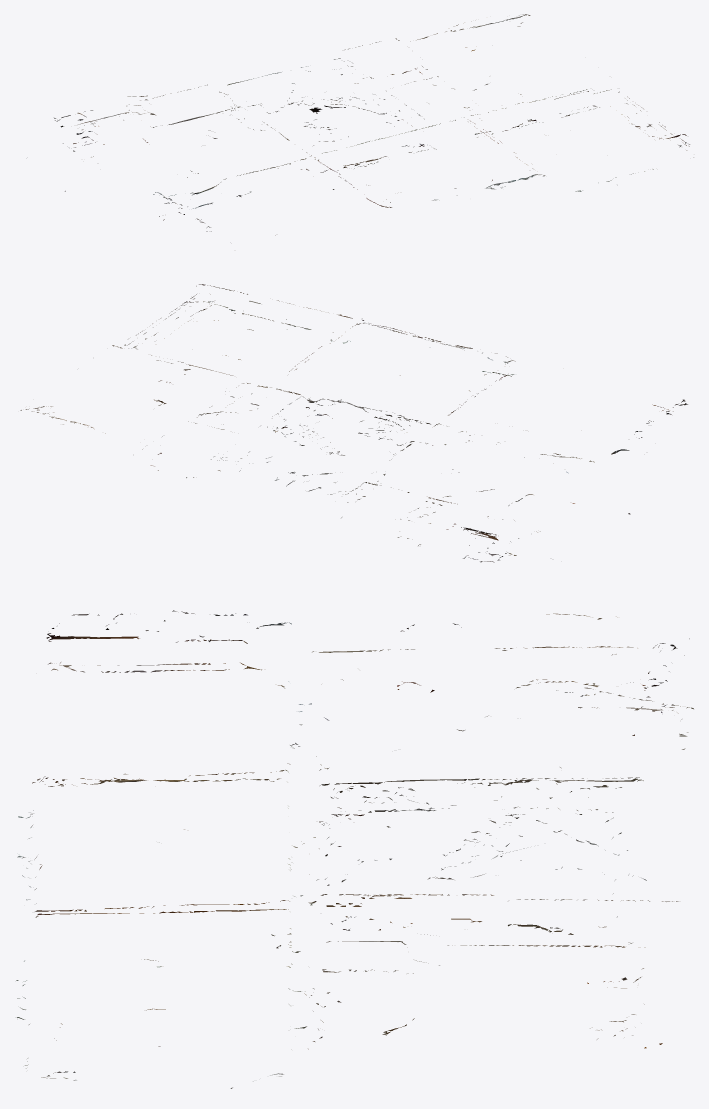
The model's file is esc_baja_techo_00.glb.
3 renders of one model, top to bottom at view 1: azimuth 30°, elevation 25°; view 2: azimuth 150°, elevation 25°; view 3: azimuth 270°, elevation 25°, orthographic. The views are drawn at different scales.
Parts seen in each view (by area): view 1: techo_Inicial_habitaciones_0_GLTF_10; view 2: techo_Inicial_habitaciones_0_GLTF_10; view 3: techo_Inicial_habitaciones_0_GLTF_9, techo_Inicial_habitaciones_0_GLTF_10, techo_Inicial_habitaciones_0_GLTF_2, techo_Inicial_habitaciones_0_GLTF_1.
Boxes of the visible parts, x1,y1,x2,y2 form: techo_Inicial_habitaciones_0_GLTF_10: [55, 20, 678, 219]; techo_Inicial_habitaciones_0_GLTF_10: [51, 305, 574, 562]; techo_Inicial_habitaciones_0_GLTF_9: [35, 610, 688, 1081]; techo_Inicial_habitaciones_0_GLTF_10: [17, 614, 693, 1034]; techo_Inicial_habitaciones_0_GLTF_2: [31, 643, 677, 1040]; techo_Inicial_habitaciones_0_GLTF_1: [16, 615, 669, 981].
Size of the model in its own units: 17.8 by 1.46 by 11.24.
11 materials, 11 textured.
